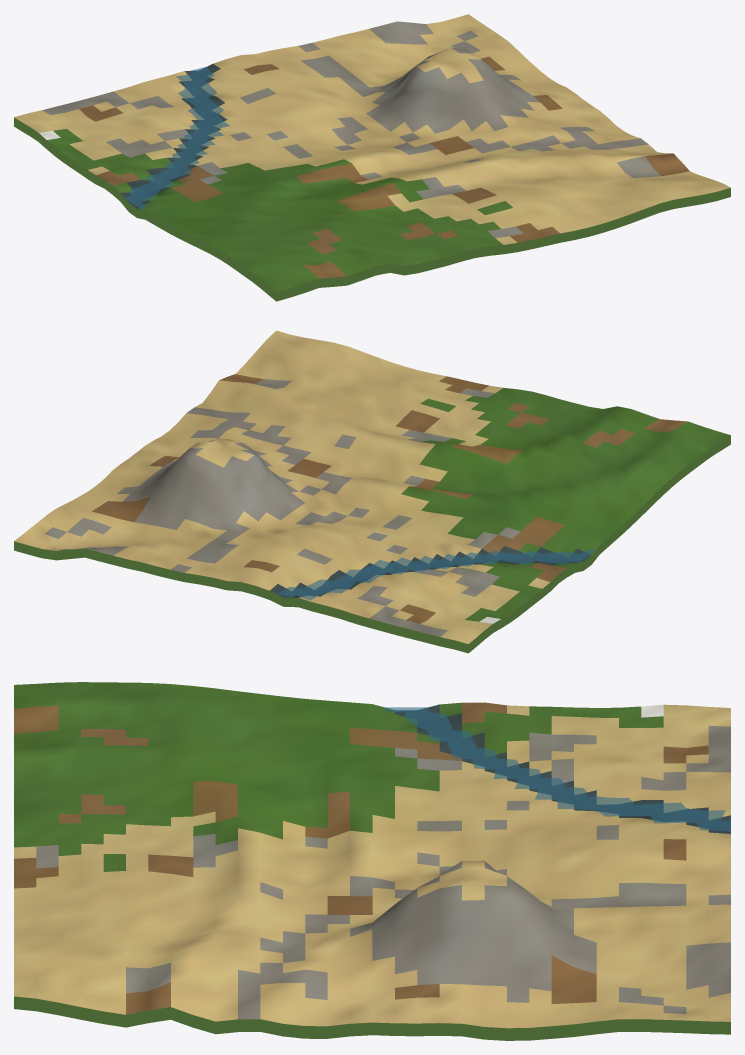
File: chunk_5_5_lod1.glb
3 renders of one model, top to bottom at view 1: azimuth 30°, elevation 25°; view 2: azimuth 150°, elevation 25°; view 3: azimuth 270°, elevation 25°, orthographic. The views are drawn at different scales.
Parts seen in each view (by area): view 1: Surface_Sand, Surface_Grass, Surface_Gravel, Surface_Dirt, Skirt, Surface_Water, Water; view 2: Surface_Sand, Surface_Grass, Surface_Gravel, Surface_Dirt, Skirt, Water, Surface_Water; view 3: Surface_Sand, Surface_Grass, Surface_Gravel, Surface_Dirt, Skirt, Water, Surface_Water.
Part boxes in pixels (box(x1,y1,x2,y2)): Surface_Sand: box(14, 14, 730, 244); Surface_Grass: box(47, 129, 512, 292); Surface_Gravel: box(42, 21, 660, 238); Surface_Dirt: box(79, 56, 689, 278); Skirt: box(14, 117, 730, 301); Surface_Water: box(121, 64, 227, 208); Water: box(125, 67, 229, 209); Surface_Sand: box(14, 330, 550, 643); Surface_Grass: box(401, 388, 730, 621); Surface_Gravel: box(45, 379, 519, 636); Surface_Dirt: box(92, 374, 687, 623); Skirt: box(14, 435, 730, 653); Water: box(276, 549, 594, 600); Surface_Water: box(270, 546, 590, 597); Surface_Sand: box(14, 704, 730, 1028); Surface_Grass: box(14, 682, 663, 871); Surface_Gravel: box(36, 725, 730, 1019); Surface_Dirt: box(14, 702, 708, 1014); Skirt: box(14, 996, 730, 1040); Water: box(384, 707, 730, 831); Surface_Water: box(395, 704, 730, 833).
Bounding box in the file's own units: 256 × 35.33 × 256.
